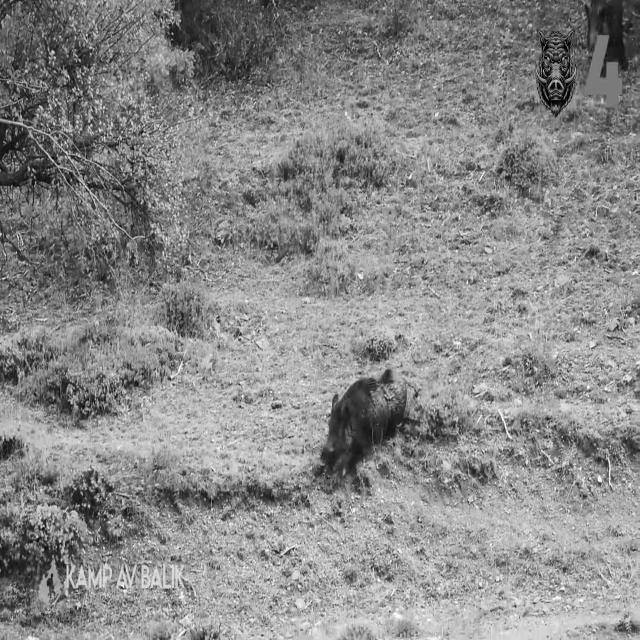boar: (321, 368, 406, 474)
